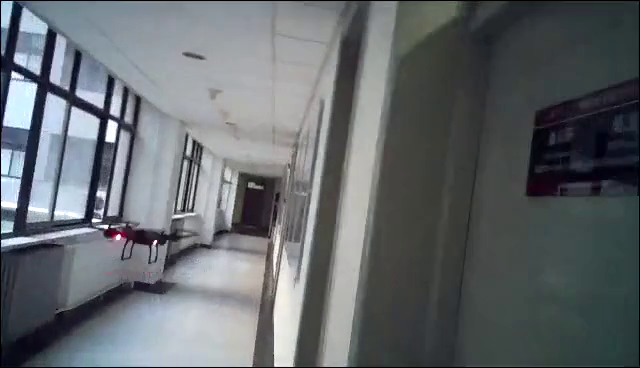drone: (92, 216, 199, 263)
